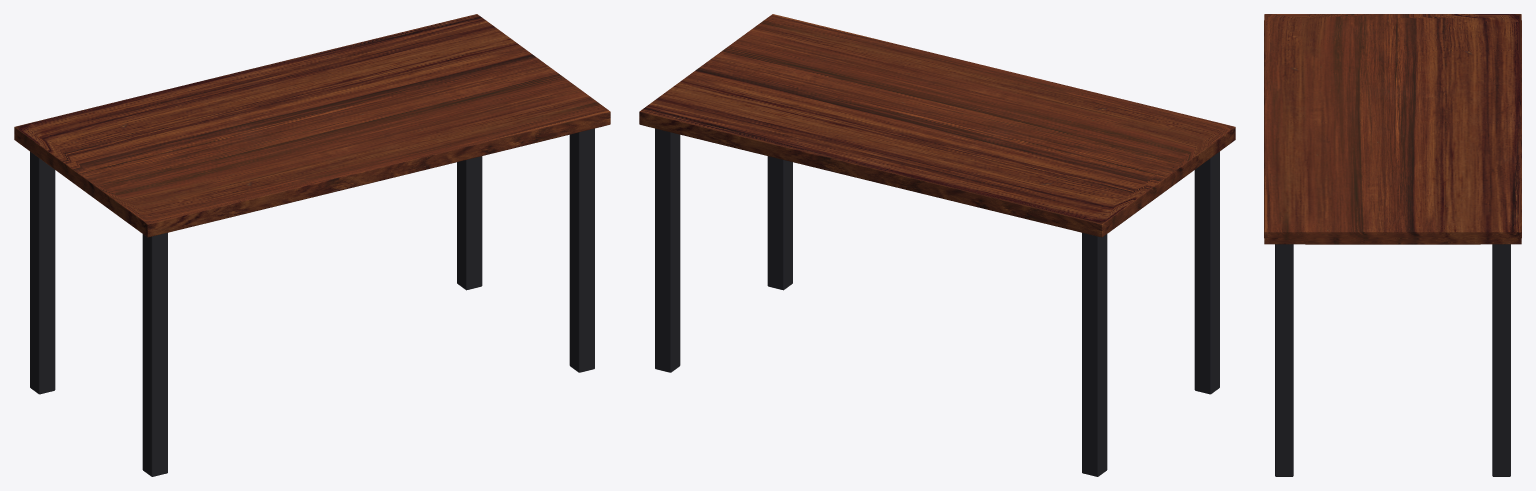
Rendered from scrivaniaa.glb.
3 renders of one model, left to right at view 1: azimuth 30°, elevation 25°; view 2: azimuth 150°, elevation 25°; view 3: azimuth 270°, elevation 25°, orthographic. The views are drawn at different scales.
Parts seen in each view (by area): view 1: Piano_Scrivania, Gamba_4, Gamba_3, Gamba_2, Gamba_1; view 2: Piano_Scrivania, Gamba_2, Gamba_1, Gamba_4, Gamba_3; view 3: Piano_Scrivania, Gamba_1, Gamba_3.
Boxes of the visible parts, x1,y1,x2,y2 form: Piano_Scrivania: [14, 14, 610, 237]; Gamba_4: [142, 232, 167, 476]; Gamba_3: [569, 128, 594, 372]; Gamba_2: [30, 151, 55, 394]; Gamba_1: [457, 156, 482, 290]; Piano_Scrivania: [639, 14, 1235, 237]; Gamba_2: [1082, 232, 1107, 476]; Gamba_1: [655, 128, 680, 372]; Gamba_4: [1194, 151, 1219, 394]; Gamba_3: [767, 156, 792, 290]; Piano_Scrivania: [1264, 14, 1521, 244]; Gamba_1: [1492, 244, 1510, 476]; Gamba_3: [1275, 244, 1293, 476].
Size of the model in its own units: 1.4 by 0.75 by 0.6999.
2 materials, 1 textured.
